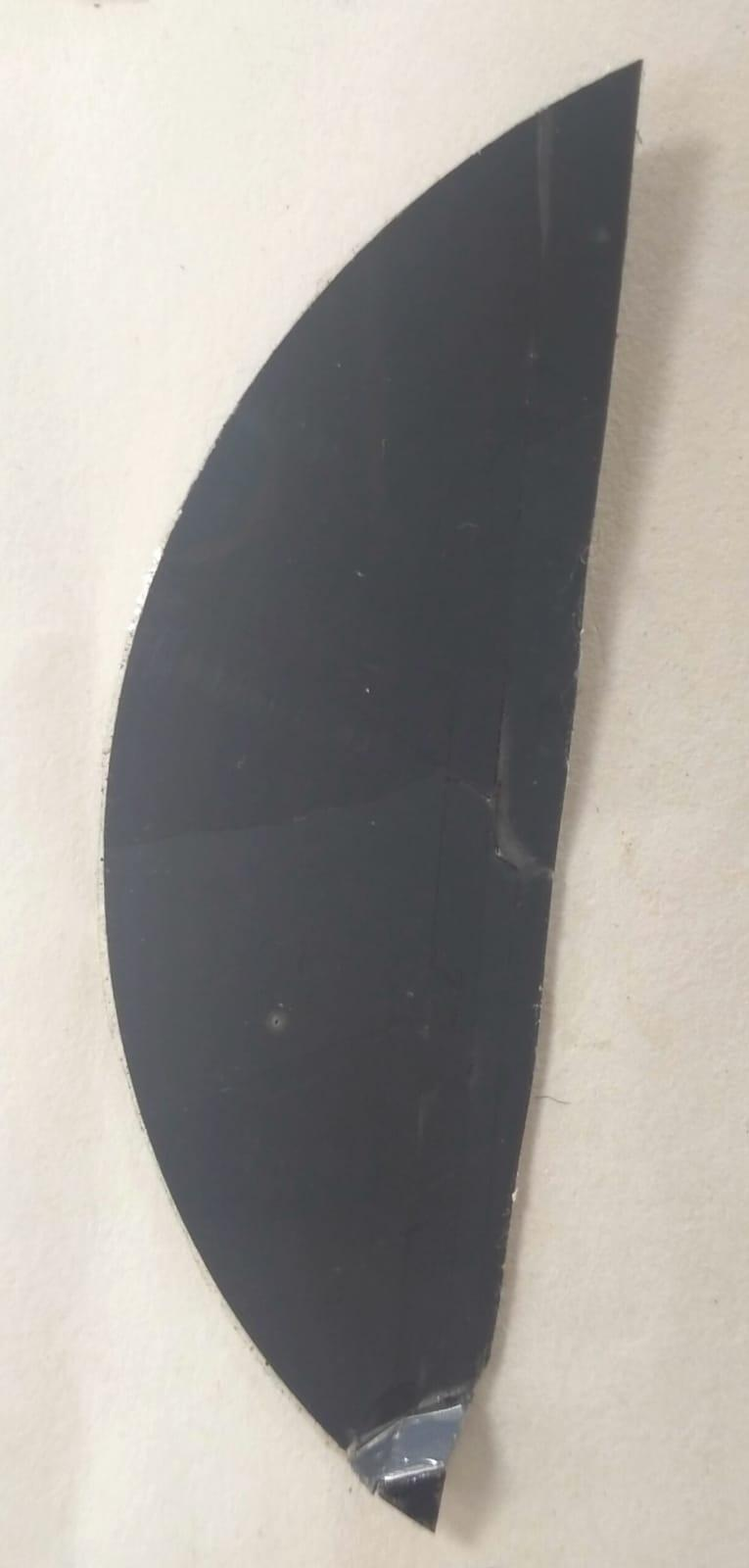crack: (327, 1370, 495, 1536), (481, 683, 557, 904), (524, 106, 564, 267)
scratch: (400, 1070, 441, 1168), (254, 998, 297, 1043)
